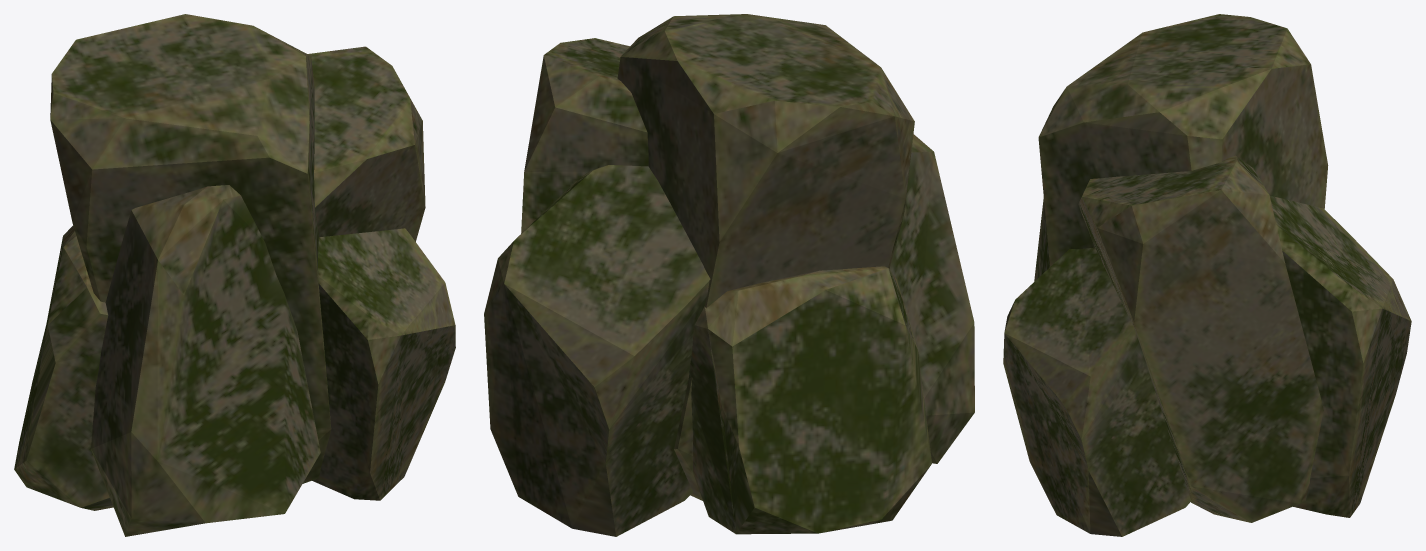
The model's file is mossy rocks3.fbx.
3 renders of one model, left to right at view 1: azimuth 30°, elevation 25°; view 2: azimuth 150°, elevation 25°; view 3: azimuth 270°, elevation 25°, orthographic. The views are drawn at different scales.
Visible parts, largest first — view 1: Mossy_Rock_Group12_M_Mossy_Rock_0; view 2: Mossy_Rock_Group12_M_Mossy_Rock_0; view 3: Mossy_Rock_Group12_M_Mossy_Rock_0.
Boxes of the visible parts, x1,y1,x2,y2 form: Mossy_Rock_Group12_M_Mossy_Rock_0: (14,14,455,536); Mossy_Rock_Group12_M_Mossy_Rock_0: (484,14,974,536); Mossy_Rock_Group12_M_Mossy_Rock_0: (1003,14,1411,536).
Size of the model in its own units: 121 by 135 by 120.
Materials: 1 (1 with a texture image).
